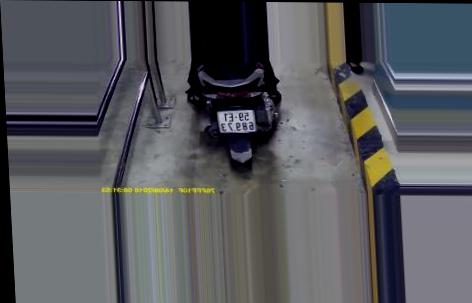License_Plate: (214, 107, 261, 137)
